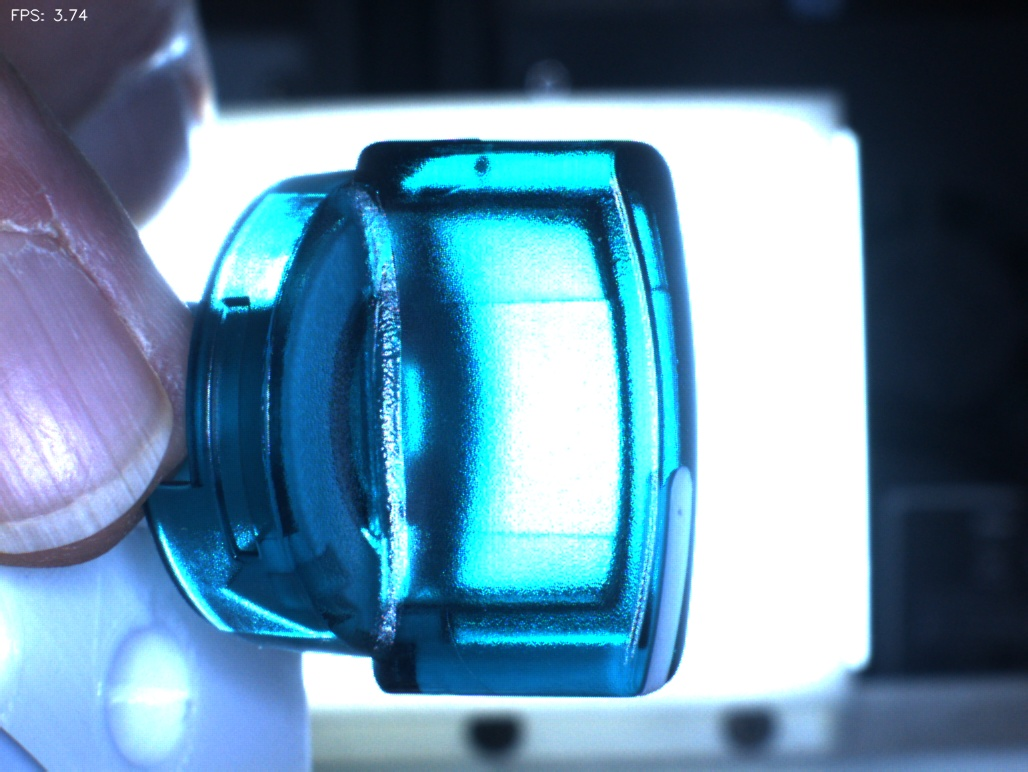Bulle: (440, 120, 531, 222)
